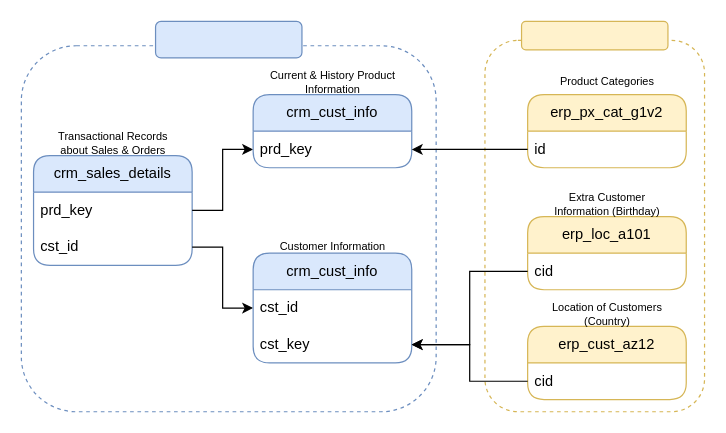
Image size: 726x433. Some labels were removed from this diagram. The centre of each missing label's shape, as x and y in pixels:
CRM: (x=228, y=39)
ERP: (x=594, y=35)
